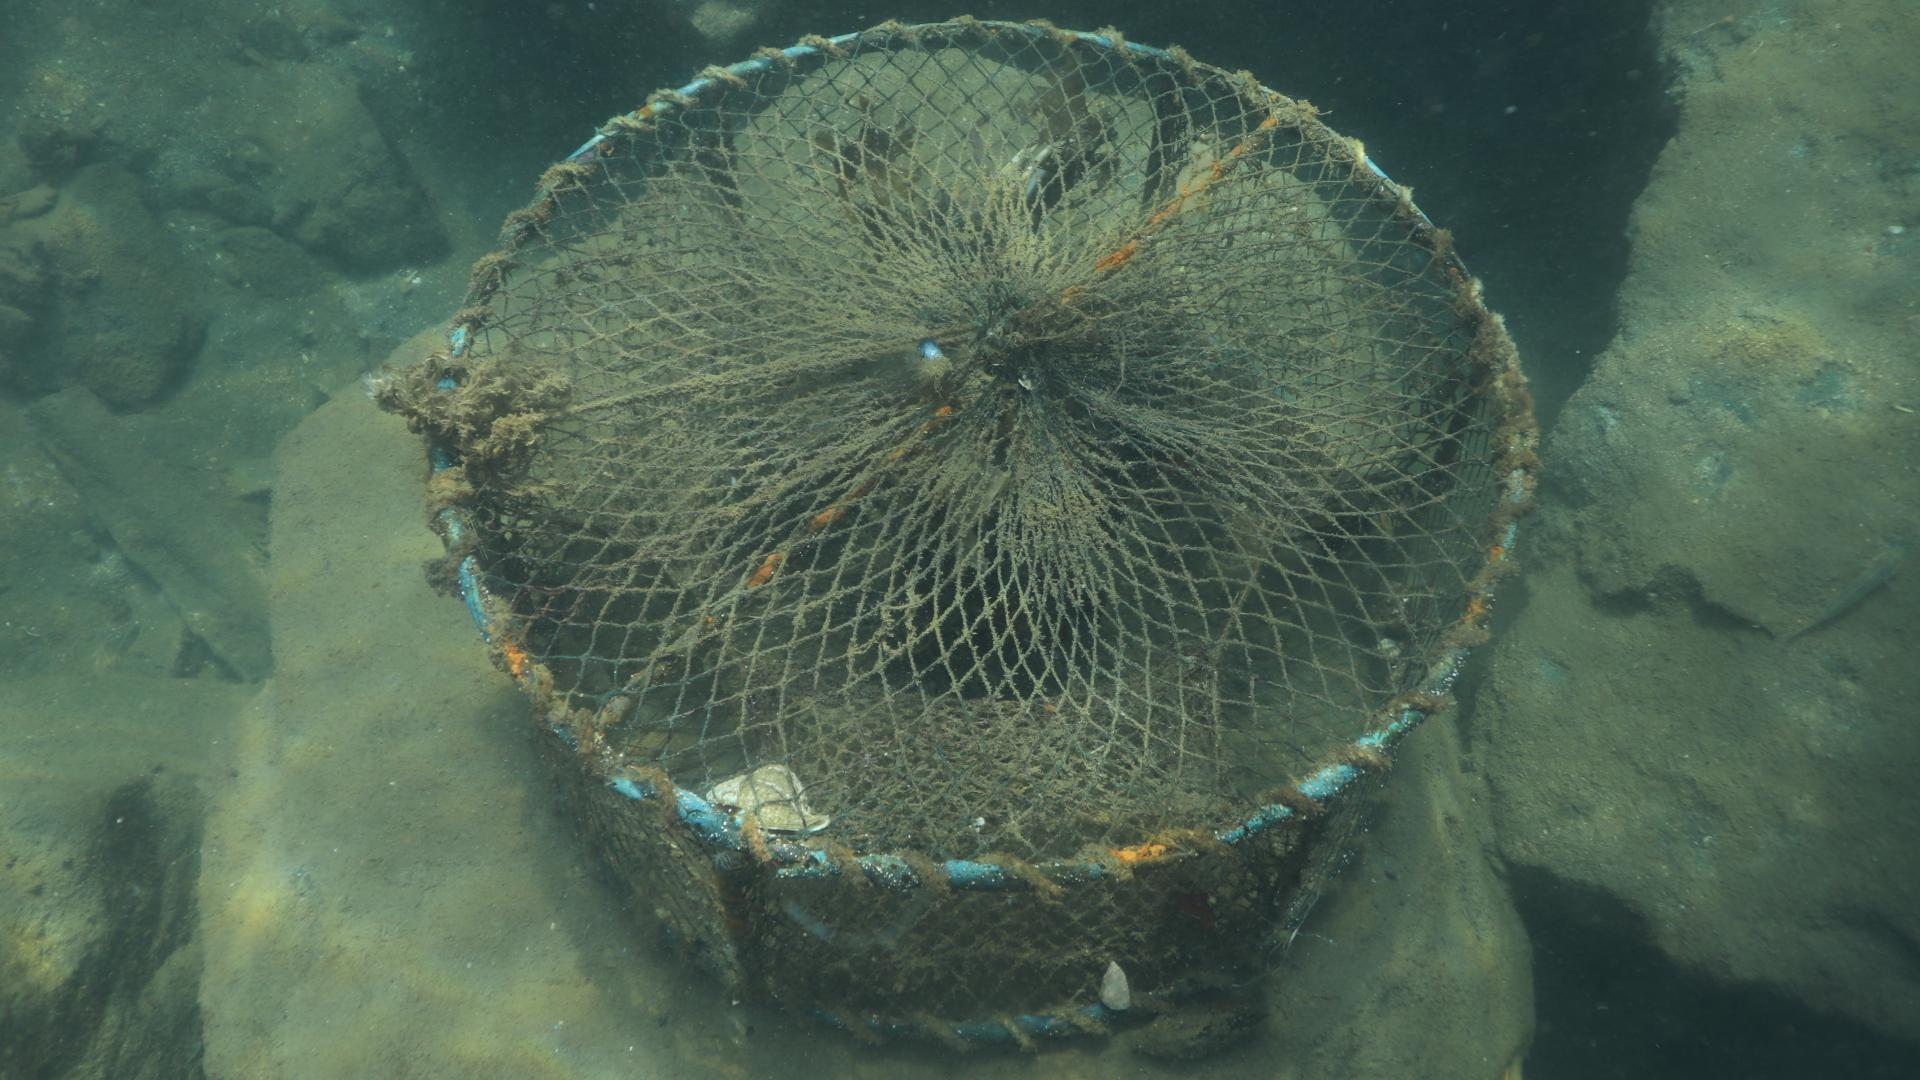circular fish trap: (427, 12, 1542, 1058)
